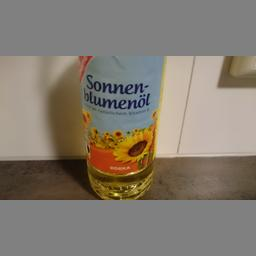oil: (78, 55, 167, 200)
